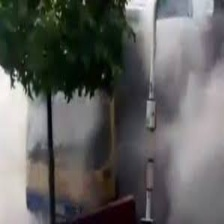smoke: (158, 12, 220, 224)
